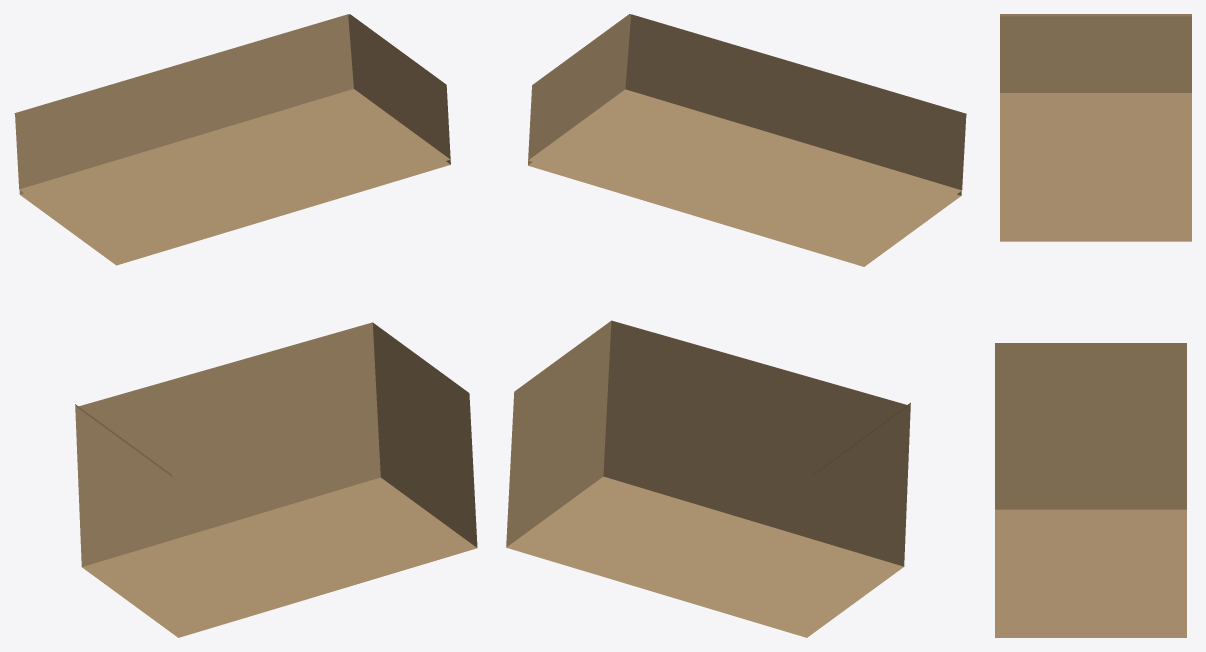
3 renders of one model, left to right at view 1: azimuth 30°, elevation 25°; view 2: azimuth 150°, elevation 25°; view 3: azimuth 270°, elevation 25°, orthographic.
Visible parts, largest first — view 1: 0_0_3_2_0_1_2_0; view 2: 0_0_3_2_0_1_2_0; view 3: 0_0_3_2_0_1_2_0.
Boxes of the visible parts, left/top/right/bottom form: 0_0_3_2_0_1_2_0: left=14, top=14, right=477, bottom=637; 0_0_3_2_0_1_2_0: left=506, top=14, right=966, bottom=637; 0_0_3_2_0_1_2_0: left=995, top=14, right=1191, bottom=637.
Bounding box in the file's own units: 58.65 × 74.8 × 27.7.
